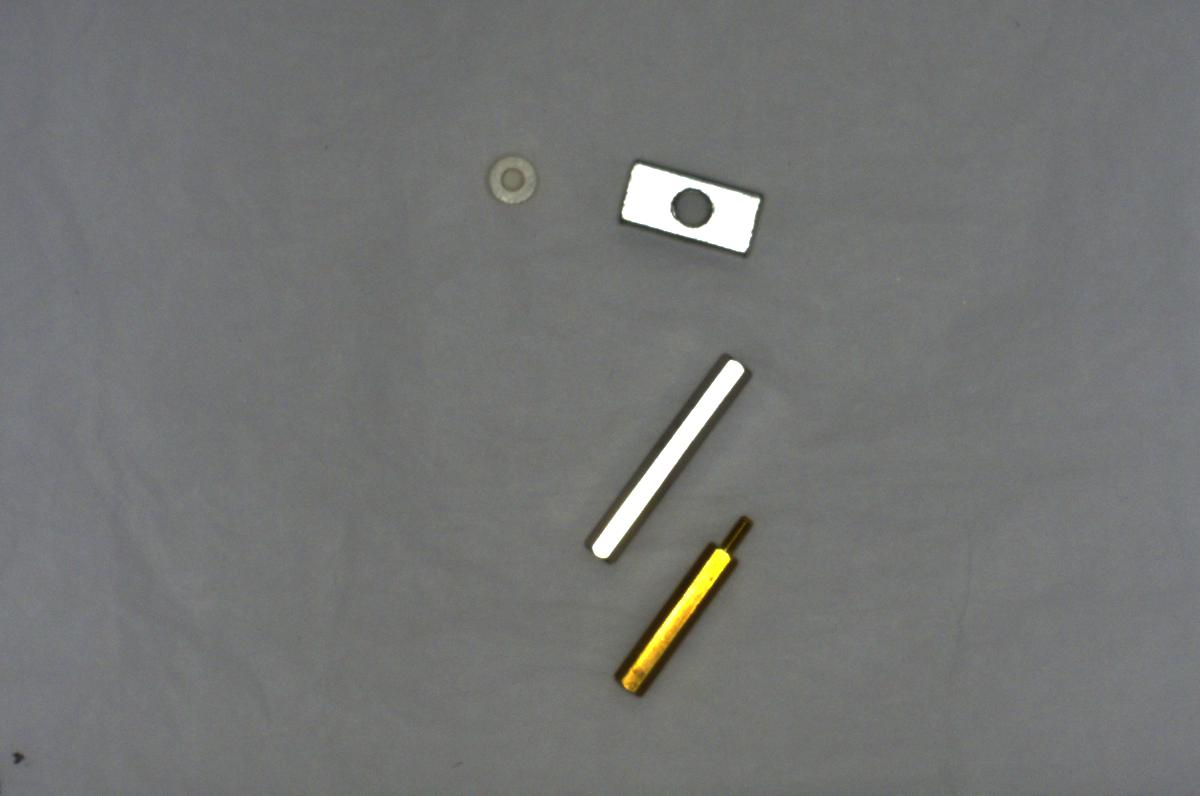Double hexagonal column: (580, 346, 750, 560)
Hexagon pillar: (602, 508, 758, 701)
Plastic cushion pillar: (481, 146, 537, 210)
Rectangular nut: (607, 154, 772, 258)
